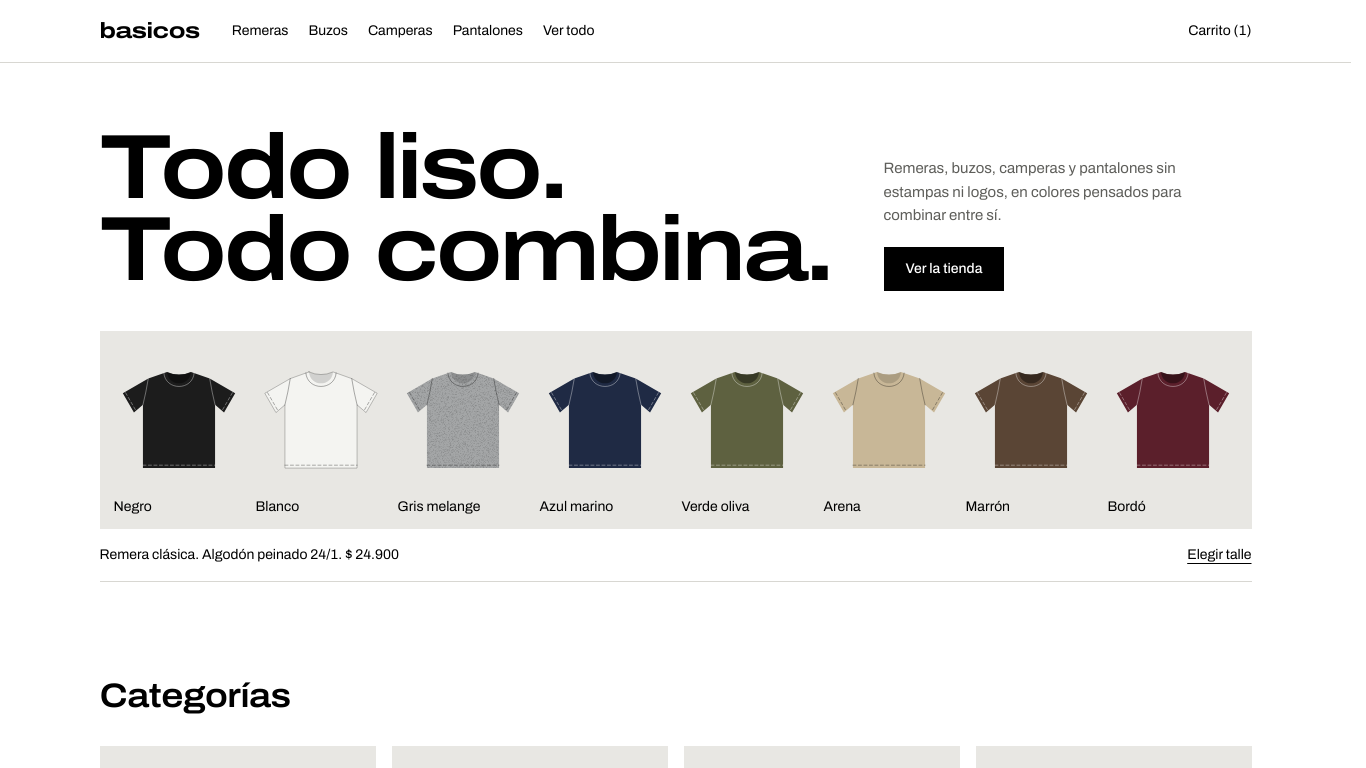
Test case: carrito lateral › sumar una unidad actualiza la cantidad y el subtotal
What coordinates should you click on to do the following:
click the button "Carrito (1)"
I would click on:
 (1220, 31)
Its box is [1184,9,1256,53].
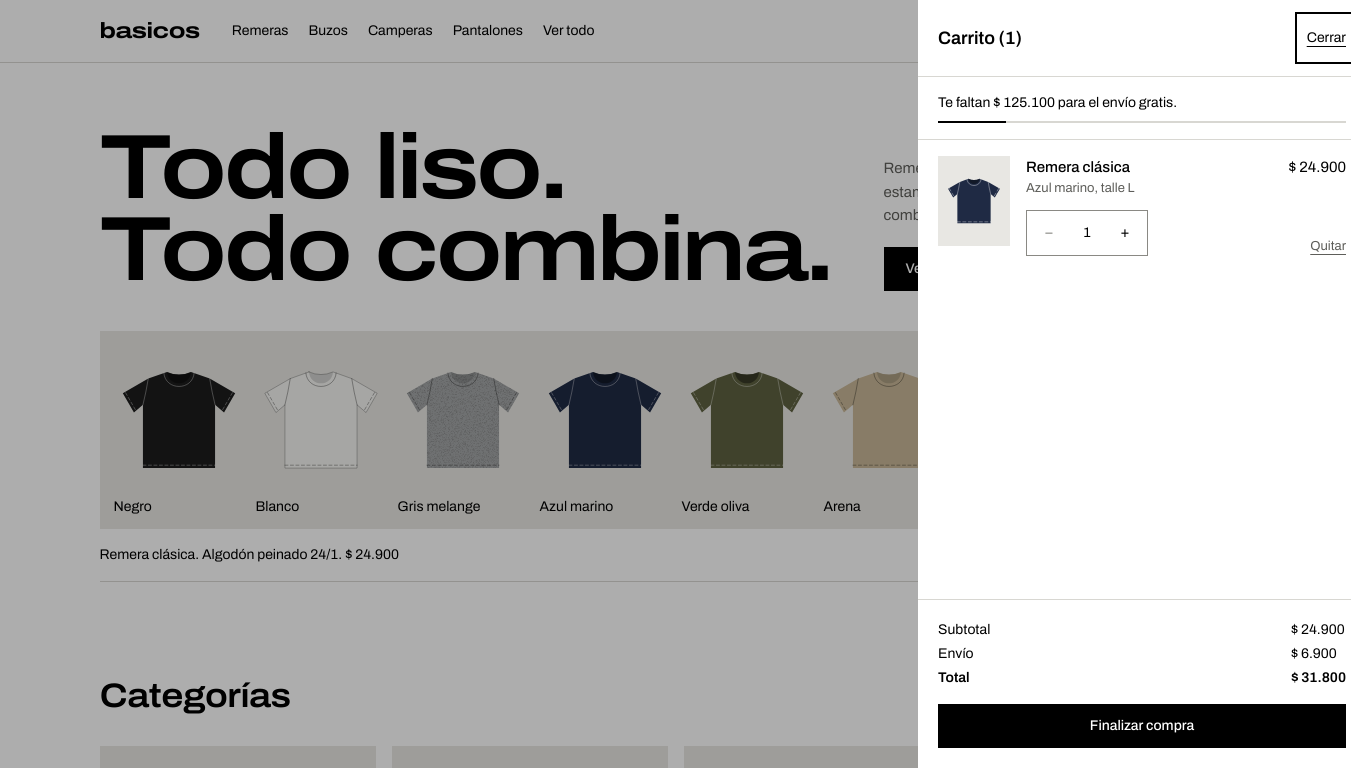
What coordinates should you click on to do the following:
click the button named "Sumar una unidad de Remera clásica"
I would click on:
 (1125, 233)
Its box is [1103,211,1147,255].
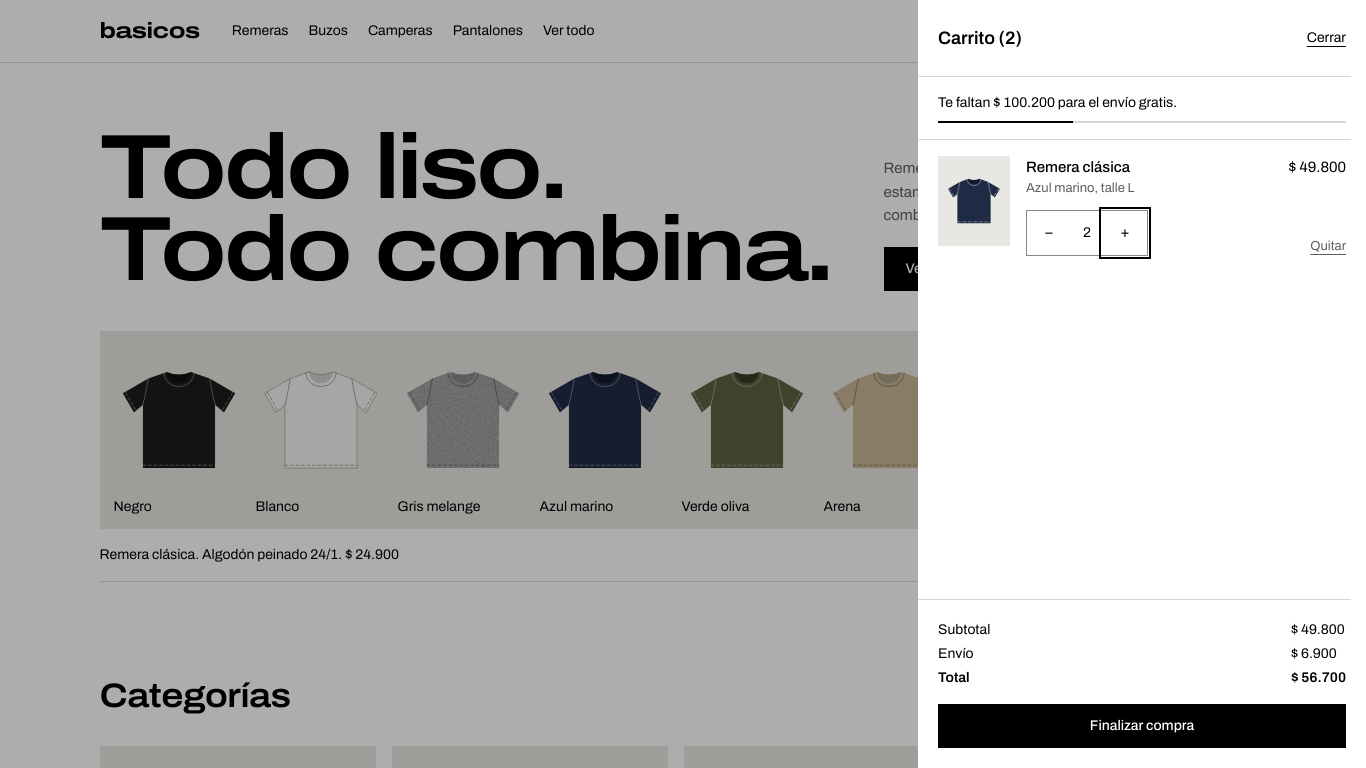
Now the element named "Cantidad de Remera clásica" shows "2", box [1083,225,1091,240]
Now the 1st text "$ 49.800" is shown, box [1288,156,1346,179]
